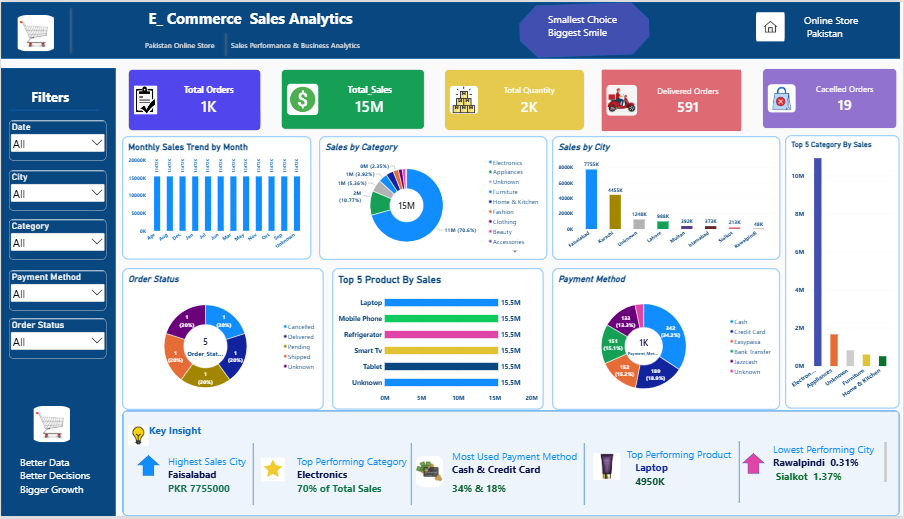

Layout of this report page (visuals, bound fields, positions):
{"tool":"powerbi","page":{"name":"Page 1","canvas":[2912,1661],"ordinal":0},"visuals":[{"type":"shape","box":[0,0,2900,183.3],"z":0},{"type":"shape","box":[0,213.3,370,1446.7],"z":1000},{"type":"textbox","box":[408.7,19.6,778,74],"z":2000},{"type":"image","box":[26.7,43.3,173.3,116.7],"z":3000},{"type":"shape","box":[136.7,13.3,180,160],"z":4000},{"type":"textbox","box":[464.3,121,251.8,39.2],"z":5000},{"type":"textbox","box":[742.2,121,422.5,42.5],"z":6000},{"type":"shape","box":[696.4,94.8,57.5,87.5],"z":7000},{"type":"shape","box":[1643.3,0,480,180],"z":8000},{"type":"slicer","fields":{"Values":["Table1.Order_Date2"]},"box":[26.2,379.3,313.9,130.8],"z":9000},{"type":"textbox","box":[2590,36.7,250,86.7],"z":10000},{"type":"image","box":[2436.7,0,93.3,160],"z":11000},{"type":"cardVisual","fields":{"Data":["CountNonNull(Table1.Order_ID)"]},"box":[410,216.7,430,200],"z":12000},{"type":"cardVisual","fields":{"Data":["Sum(Table1.Total_Sales)"]},"box":[903.3,216.7,464.3,196.2],"z":13000},{"type":"cardVisual","fields":{"Data":["Sum(Table1.Quantity)"]},"box":[1430,216.7,454.5,199.5],"z":14000},{"type":"cardVisual","fields":{"Data":["CountNonNull(Table1.Order_Status)"]},"box":[2453.3,213.3,436.7,196.7],"z":15000},{"type":"cardVisual","fields":{"Data":["Table1.Delivered Orders"]},"box":[1936.7,216.7,454.5,202.7],"z":16000},{"type":"columnChart","fields":{"Category":["Table.Month"],"Y":["Sum(Table1.Total_Sales)"]},"box":[389.1,431.6,611.4,398.9],"z":17000},{"type":"donutChart","title":"Sales by Category","fields":{"Category":["Table1.Category"],"Y":["Sum(Table1.Total_Sales)"]},"box":[1026.8,431.5,737,400],"z":18000},{"type":"columnChart","title":"Sales by City","fields":{"Category":["Table1.City"],"Y":["Sum(Table1.Total_Sales)"]},"box":[1778.7,431.6,737,400],"z":19000},{"type":"donutChart","title":"Order Status","fields":{"Category":["Table3.Order_Status"],"Y":["CountNonNull(Table3.Order_Status)"]},"box":[389.1,856.7,650.7,457.8],"z":20000},{"type":"donutChart","title":"Payment Method","fields":{"Category":["Table1.Payment_Method"],"Y":["CountNonNull(Table1.Payment_Method)"]},"box":[1778.7,856.7,735.7,457.8],"z":21000},{"type":"barChart","title":"Top 5 Product By Sales","fields":{"Category":["Table1.Product"],"Y":["Sum(Table4.Total_Sales)"]},"box":[1069.2,856.7,683.3,456.7],"z":22000},{"type":"shape","box":[390,1316.7,2510,343.3],"z":23000},{"type":"textbox","box":[476.7,1356.7,223.3,66.7],"z":24000},{"type":"image","box":[408.3,1355.3,66.9,87],"z":25000},{"type":"shape","box":[438.4,1462.4,73.6,66.9],"z":26000},{"type":"textbox","box":[540,1456.7,317.9,143.9],"z":27000},{"type":"shape","box":[786.7,1423.3,53.3,200],"z":28000},{"type":"image","box":[840,1456.7,76.7,100],"z":29000},{"type":"textbox","box":[953.3,1456.7,366.7,143.3],"z":30000},{"type":"shape","box":[1296.7,1423.3,53.3,200],"z":31000},{"type":"image","box":[1340,1463.3,86.7,100],"z":32000},{"type":"textbox","box":[1453.3,1443.3,426.7,180],"z":33000},{"type":"shape","box":[1853.3,1423.3,53.3,200],"z":34000},{"type":"image","box":[1880.7,1455.7,147.2,87],"z":35000},{"type":"textbox","box":[2017.9,1435.6,344.7,140.6],"z":36000},{"type":"shape","box":[2355.9,1415.6,53.3,200],"z":37000},{"type":"textbox","box":[2490,1420,366.7,146.7],"z":38000},{"type":"shape","box":[2389.4,1455.7,73.6,66.9],"z":39000},{"type":"clusteredColumnChart","title":"Top 5 Category By Sales","fields":{"Category":["Table2.Category"],"Y":["Sum(Table1.Total_Sales)"]},"box":[2530,430,370,883.3],"z":40000},{"type":"textbox","box":[39.2,277.9,255,65.4],"z":41000},{"type":"shape","box":[26.2,320.4,291,58.9],"z":42000},{"type":"slicer","fields":{"Values":["Table1.City"]},"box":[26.2,542.8,313.9,130.8],"z":43000},{"type":"slicer","fields":{"Values":["Table1.Category"]},"box":[26.2,699.7,313.9,130.8],"z":44000},{"type":"slicer","fields":{"Values":["Table1.Payment_Method"]},"box":[26.2,863.2,313.9,130.8],"z":45000},{"type":"slicer","fields":{"Values":["Table1.Order_Status"]},"box":[26.2,1020.1,313.9,130.8],"z":46000},{"type":"image","box":[78.5,1304.6,173.3,116.7],"z":47000},{"type":"textbox","box":[62.1,1461.5,232.1,156.9],"z":48000},{"type":"textbox","box":[1763.3,33.3,300,93.3],"z":48001}]}

Visuals, with their boxes in screenshot pixels (x1, y1, x2, y2), scaled from the page's 2912x1661 canvas onto the 904x519 screenshot:
shape: Rect(0, 0, 900, 57)
shape: Rect(0, 67, 115, 518)
textbox: Rect(127, 6, 368, 29)
image: Rect(8, 14, 62, 50)
shape: Rect(42, 4, 98, 54)
textbox: Rect(144, 38, 222, 50)
textbox: Rect(230, 38, 362, 51)
shape: Rect(216, 30, 234, 57)
shape: Rect(510, 0, 659, 56)
slicer - Table1.Order_Date2: Rect(8, 119, 106, 159)
textbox: Rect(804, 11, 882, 39)
image: Rect(756, 0, 785, 50)
cardVisual - CountNonNull(Table1.Order_ID): Rect(127, 68, 261, 130)
cardVisual - Sum(Table1.Total_Sales): Rect(280, 68, 425, 129)
cardVisual - Sum(Table1.Quantity): Rect(444, 68, 585, 130)
cardVisual - CountNonNull(Table1.Order_Status): Rect(762, 67, 897, 128)
cardVisual - Table1.Delivered Orders: Rect(601, 68, 742, 131)
columnChart - Table.Month x Sum(Table1.Total_Sales): Rect(121, 135, 311, 260)
"Sales by Category" donutChart: Rect(319, 135, 548, 260)
"Sales by City" columnChart: Rect(552, 135, 781, 260)
"Order Status" donutChart: Rect(121, 268, 323, 411)
"Payment Method" donutChart: Rect(552, 268, 781, 411)
"Top 5 Product By Sales" barChart: Rect(332, 268, 544, 410)
shape: Rect(121, 411, 900, 518)
textbox: Rect(148, 424, 217, 445)
image: Rect(127, 423, 148, 451)
shape: Rect(136, 457, 159, 478)
textbox: Rect(168, 455, 266, 500)
shape: Rect(244, 445, 261, 507)
image: Rect(261, 455, 285, 486)
textbox: Rect(296, 455, 410, 500)
shape: Rect(403, 445, 419, 507)
image: Rect(416, 457, 443, 488)
textbox: Rect(451, 451, 584, 507)
shape: Rect(575, 445, 592, 507)
image: Rect(584, 455, 630, 482)
textbox: Rect(626, 449, 733, 493)
shape: Rect(731, 442, 748, 505)
textbox: Rect(773, 444, 887, 490)
shape: Rect(742, 455, 765, 476)
"Top 5 Category By Sales" clusteredColumnChart: Rect(785, 134, 900, 410)
textbox: Rect(12, 87, 91, 107)
shape: Rect(8, 100, 98, 119)
slicer - Table1.City: Rect(8, 170, 106, 210)
slicer - Table1.Category: Rect(8, 219, 106, 260)
slicer - Table1.Payment_Method: Rect(8, 270, 106, 311)
slicer - Table1.Order_Status: Rect(8, 319, 106, 360)
image: Rect(24, 408, 78, 444)
textbox: Rect(19, 457, 91, 506)
textbox: Rect(547, 10, 641, 40)
